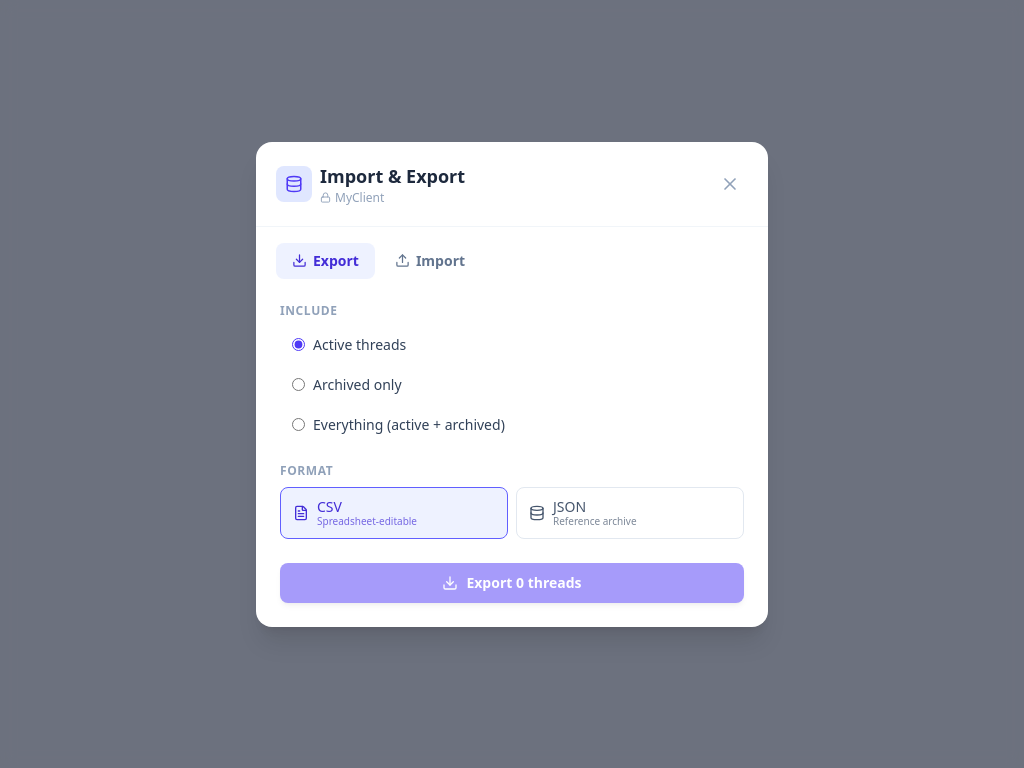
ImportExportModal — import › member sees the lock note before choosing a file
Click the tab "Import" at (430, 260), box x1=379 y1=242 x2=481 y2=278
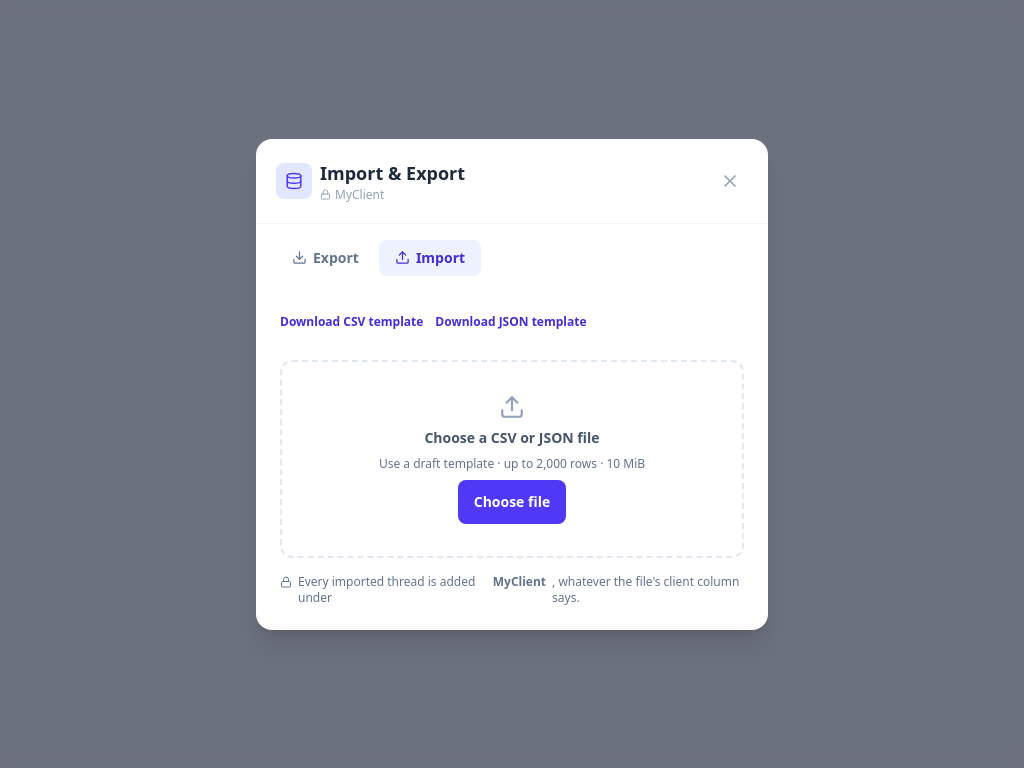
Expected: the text "added under" is shown, x1=298 y1=572 x2=475 y2=606
